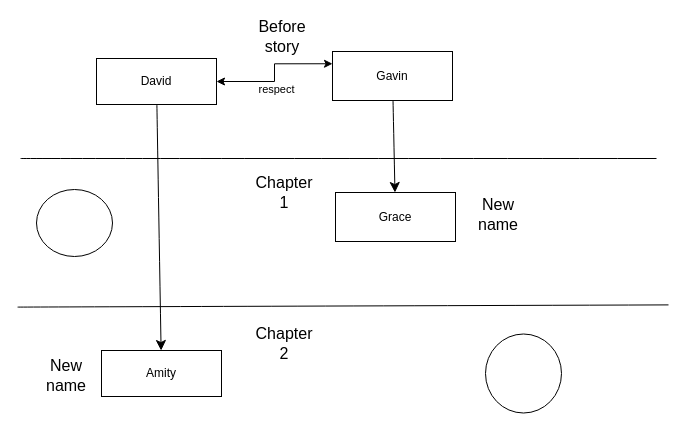
Some shapes in this 686 by 430 pixel diagram are drawn without their labels. The shapes that lost their labels are listed below. From the top down, each one's centre as x and y in pixels, then its label:
At (x=74, y=222): "David wins".
At (x=523, y=373): "Grace wins".
